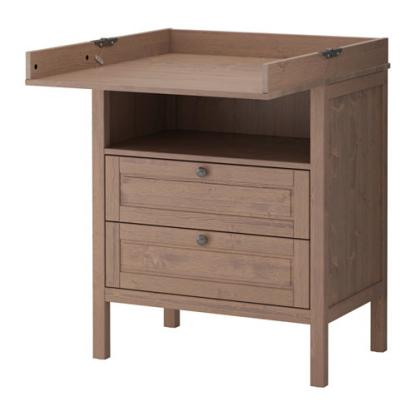Table: (20, 22, 396, 390)
